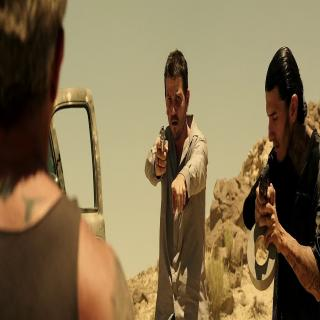gun: (256, 160, 271, 218), (158, 123, 167, 175)
